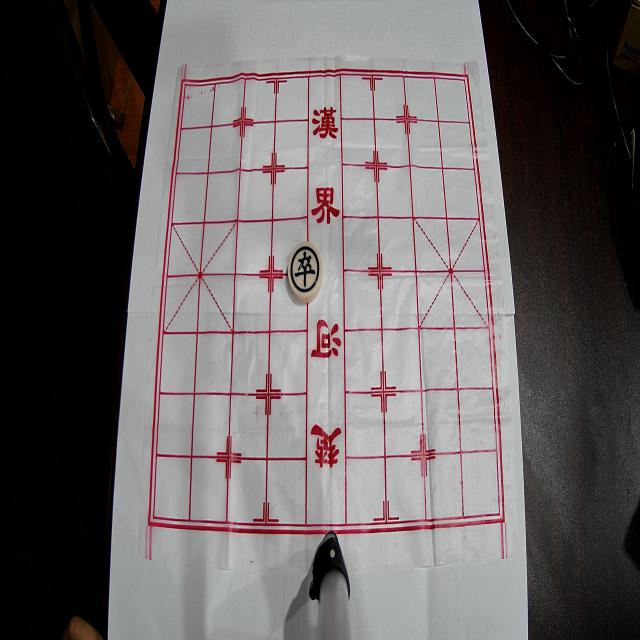black-soldier: (288, 241, 323, 303)
